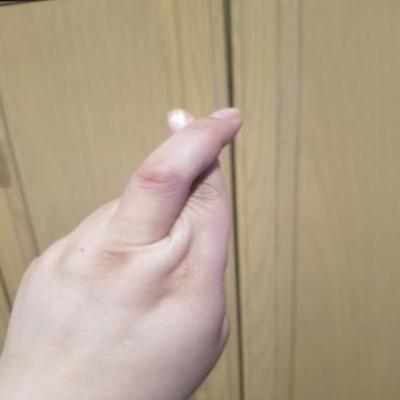hand: (0, 97, 268, 399)
